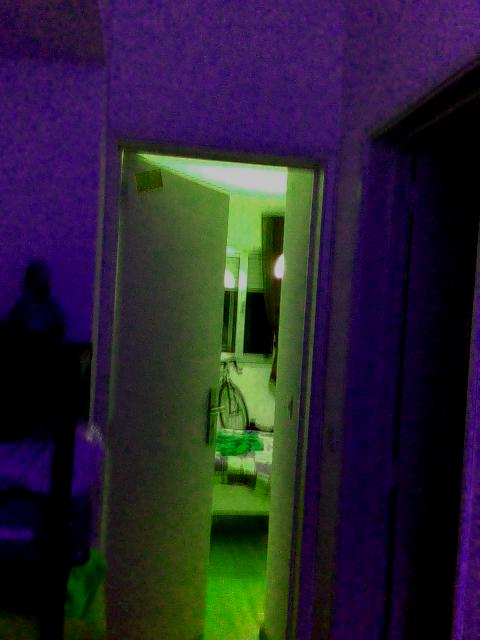semi_door: (92, 122, 337, 639)
